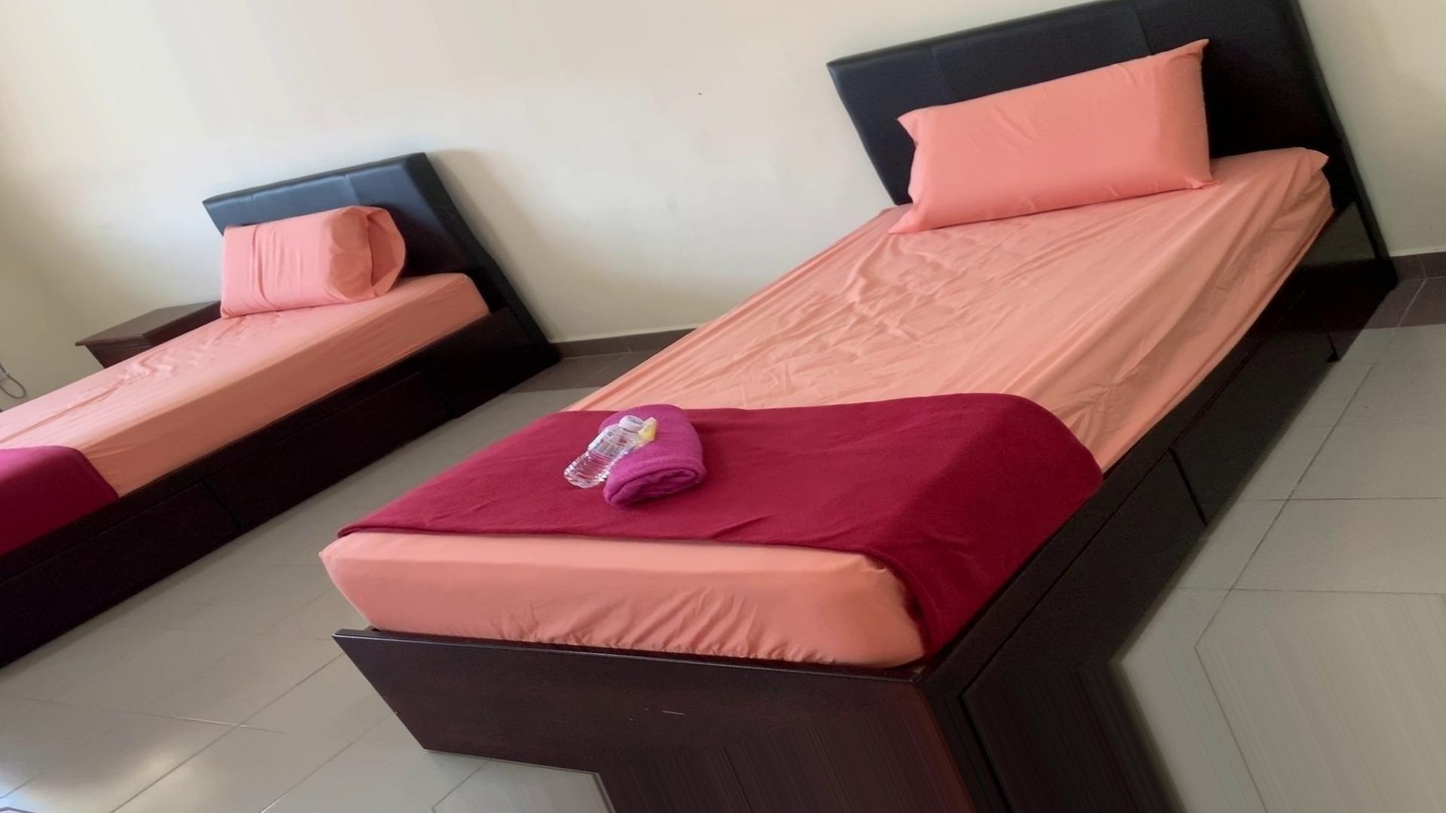bed: (342, 26, 1446, 774), (0, 131, 543, 704)
table: (59, 307, 216, 359)
